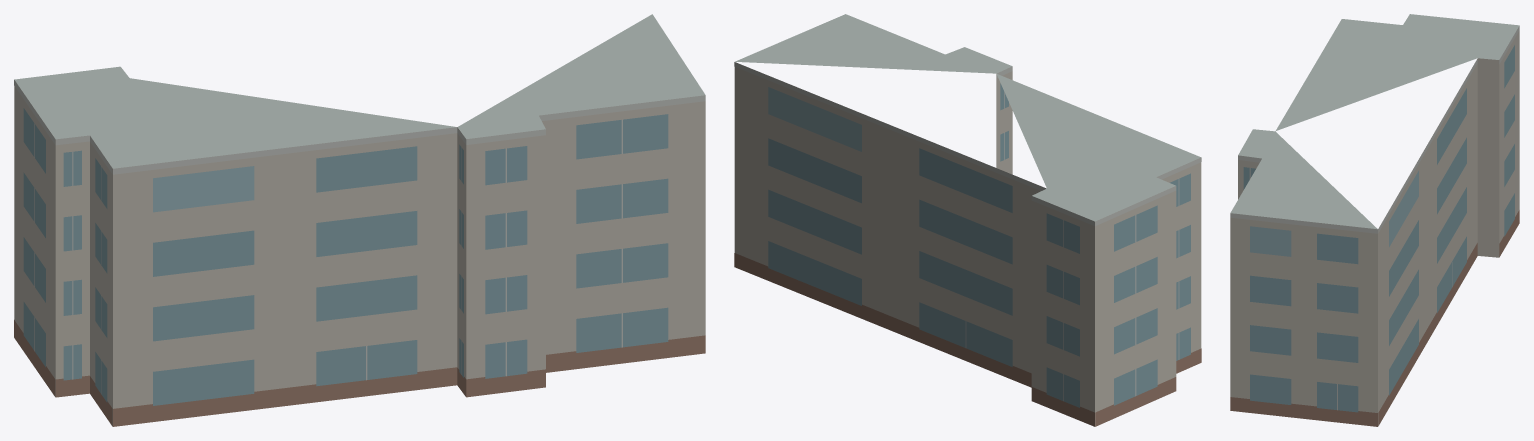
File: survey-upis-32593479.glb
3 renders of one model, left to right at view 1: azimuth 30°, elevation 25°; view 2: azimuth 150°, elevation 25°; view 3: azimuth 270°, elevation 25°, orthographic. The views are drawn at different scales.
Parts seen in each view (by area): view 1: survey-upis-32593479.tmp; view 2: survey-upis-32593479.tmp; view 3: survey-upis-32593479.tmp.
Part boxes in pixels (<box>): survey-upis-32593479.tmp: <box>14,14,705,426</box>; survey-upis-32593479.tmp: <box>734,14,1201,426</box>; survey-upis-32593479.tmp: <box>1230,14,1519,426</box>.
Bounding box in the file's own units: 24.65 × 10.55 × 14.01.
